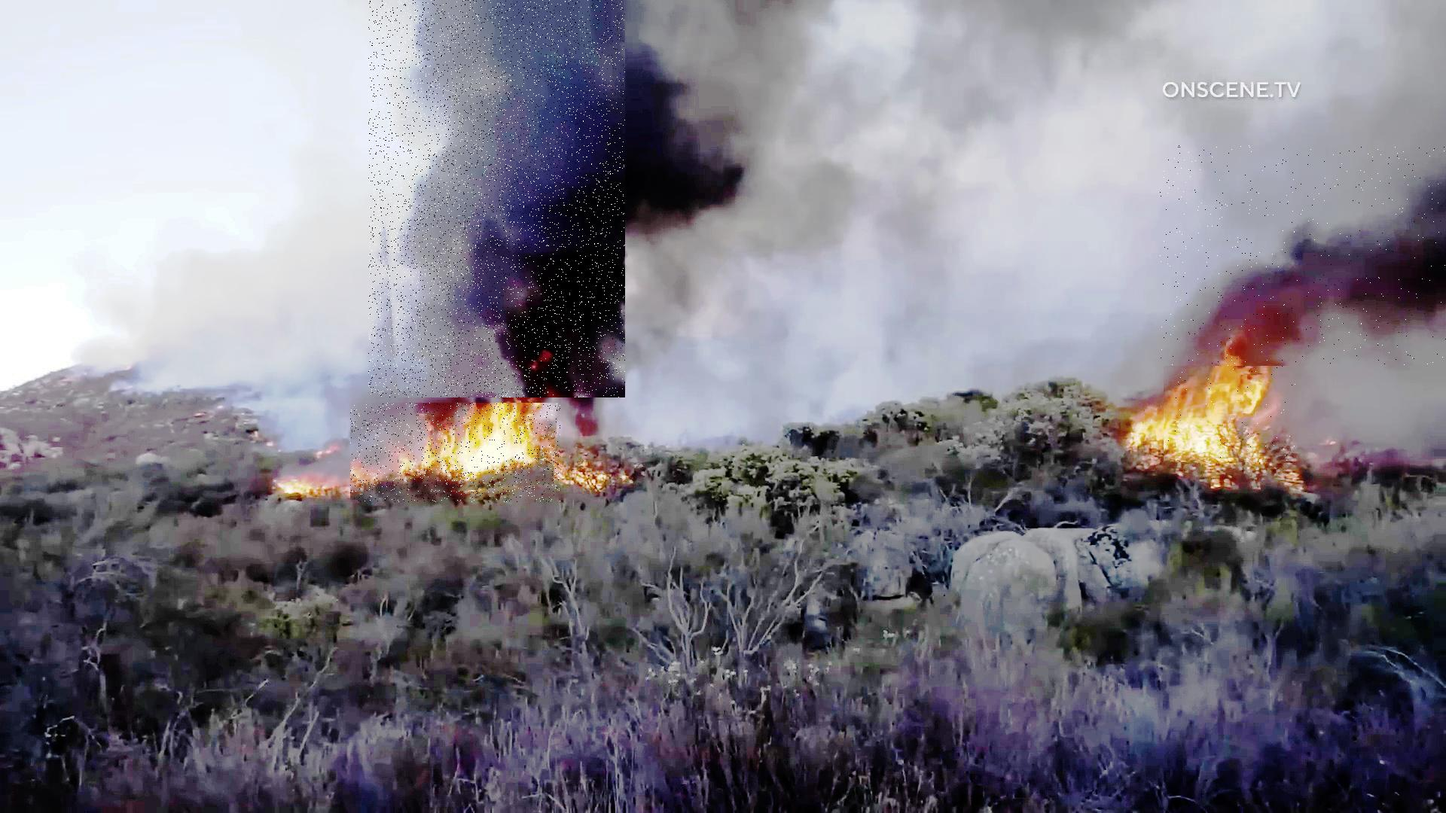fire: (351, 403, 561, 503), (1164, 364, 1296, 462)
smoke: (369, 0, 625, 397), (1160, 145, 1446, 366)
